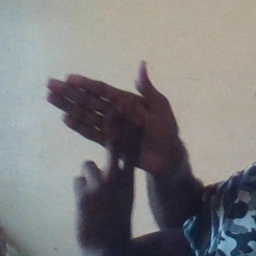N: (43, 55, 173, 215)
